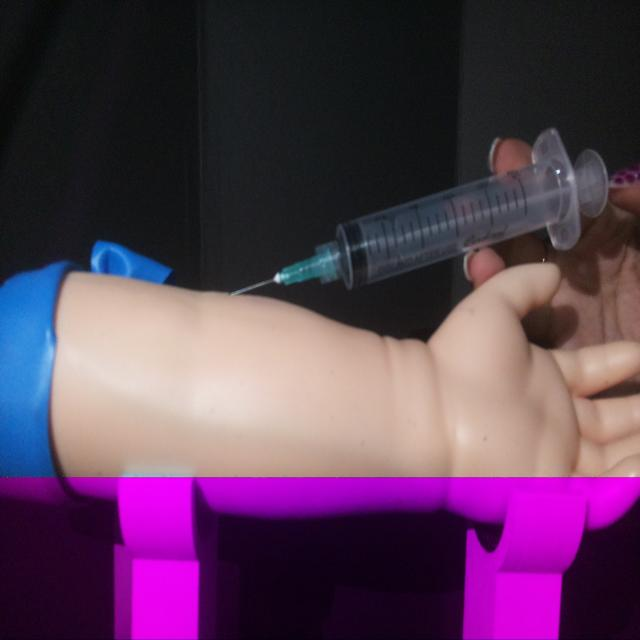24deg: (225, 124, 612, 302)
